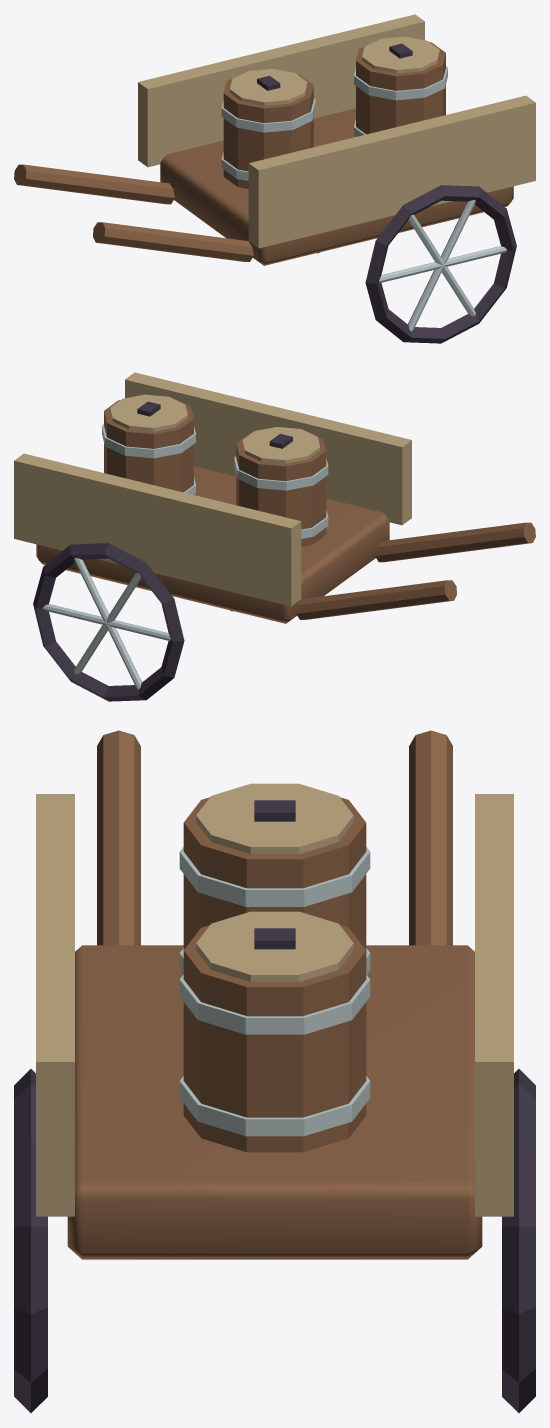
The model's file is deliveryCart.glb.
The picture shows the model from 3 angles, top to bottom: view 1: azimuth 30°, elevation 25°; view 2: azimuth 150°, elevation 25°; view 3: azimuth 270°, elevation 25°; orthographic projection. The views are drawn at different scales.
Parts seen in each view (by area): view 1: Cube.075, Cube.076, Cube.074, Torus.006, Cone.284, Cone.288, Cone.293, Cone.292, Cone.291, Cone.287, Cone.279, Cone.286 (+3 smaller); view 2: Cube.076, Cube.075, Cube.074, Torus.007, Cone.284, Cone.288, Cone.292, Cone.293, Cone.291, Cone.287, Cone.282, Cone.286 (+3 smaller); view 3: Cube.074, Cone.288, Cube.075, Cube.076, Cone.284, Torus.006, Torus.007, Cone.292, Cone.293, Cone.287, Cone.291, Cone.289 (+4 smaller).
Part boxes in pixels (box(x1,y1,x2,y2)): Cube.075: box(248, 95, 535, 248); Cube.076: box(138, 14, 424, 167); Cube.074: box(160, 108, 513, 265); Torus.006: box(365, 185, 516, 343); Cone.284: box(223, 74, 313, 188); Cone.288: box(356, 40, 445, 134); Cone.293: box(14, 164, 174, 204); Cone.292: box(93, 222, 253, 261); Cone.291: box(362, 36, 439, 73); Cone.287: box(229, 69, 307, 105); Cone.279: box(408, 200, 475, 331); Cone.286: box(221, 98, 315, 132); Cube.076: box(14, 453, 301, 606); Cube.075: box(125, 372, 411, 525); Cube.074: box(36, 466, 389, 623); Torus.007: box(33, 543, 184, 701); Cone.284: box(236, 432, 326, 546); Cone.288: box(104, 398, 193, 492); Cone.292: box(375, 522, 535, 562); Cone.293: box(296, 580, 456, 619); Cone.291: box(110, 394, 187, 431); Cone.287: box(242, 427, 320, 463); Cone.282: box(74, 558, 141, 689); Cone.286: box(234, 456, 328, 490); Cube.074: box(67, 945, 482, 1259); Cone.288: box(183, 925, 366, 1152); Cube.075: box(36, 794, 74, 1216); Cube.076: box(475, 794, 513, 1216); Cone.284: box(183, 797, 366, 949); Torus.006: box(14, 1069, 47, 1412); Torus.007: box(502, 1069, 535, 1412); Cone.292: box(97, 730, 140, 945); Cone.293: box(409, 730, 452, 945); Cone.287: box(196, 783, 353, 854); Cone.291: box(196, 911, 353, 981); Cone.289: box(179, 1076, 370, 1136).
Size of the model in its own units: 1.97 by 1.1 by 1.07.
